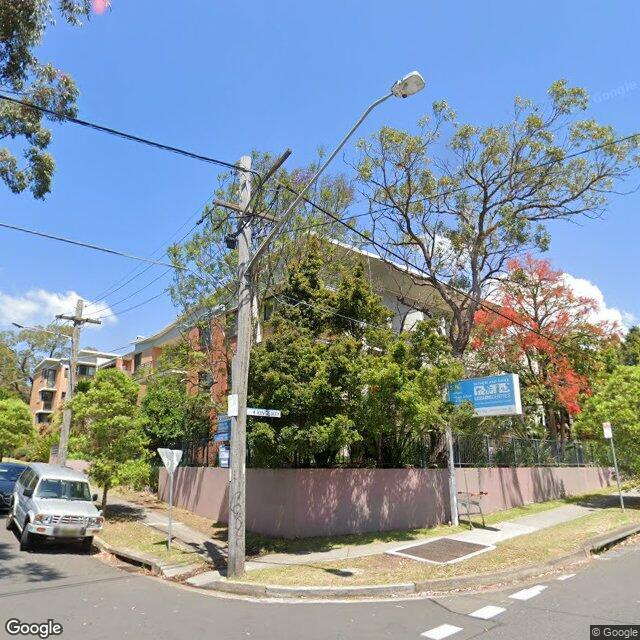crossarm: (254, 148, 292, 194), (212, 198, 282, 222), (55, 314, 102, 325)
streetlight: (245, 70, 426, 277), (12, 321, 73, 340)
timber-pole: (226, 155, 253, 578), (56, 298, 83, 466)
